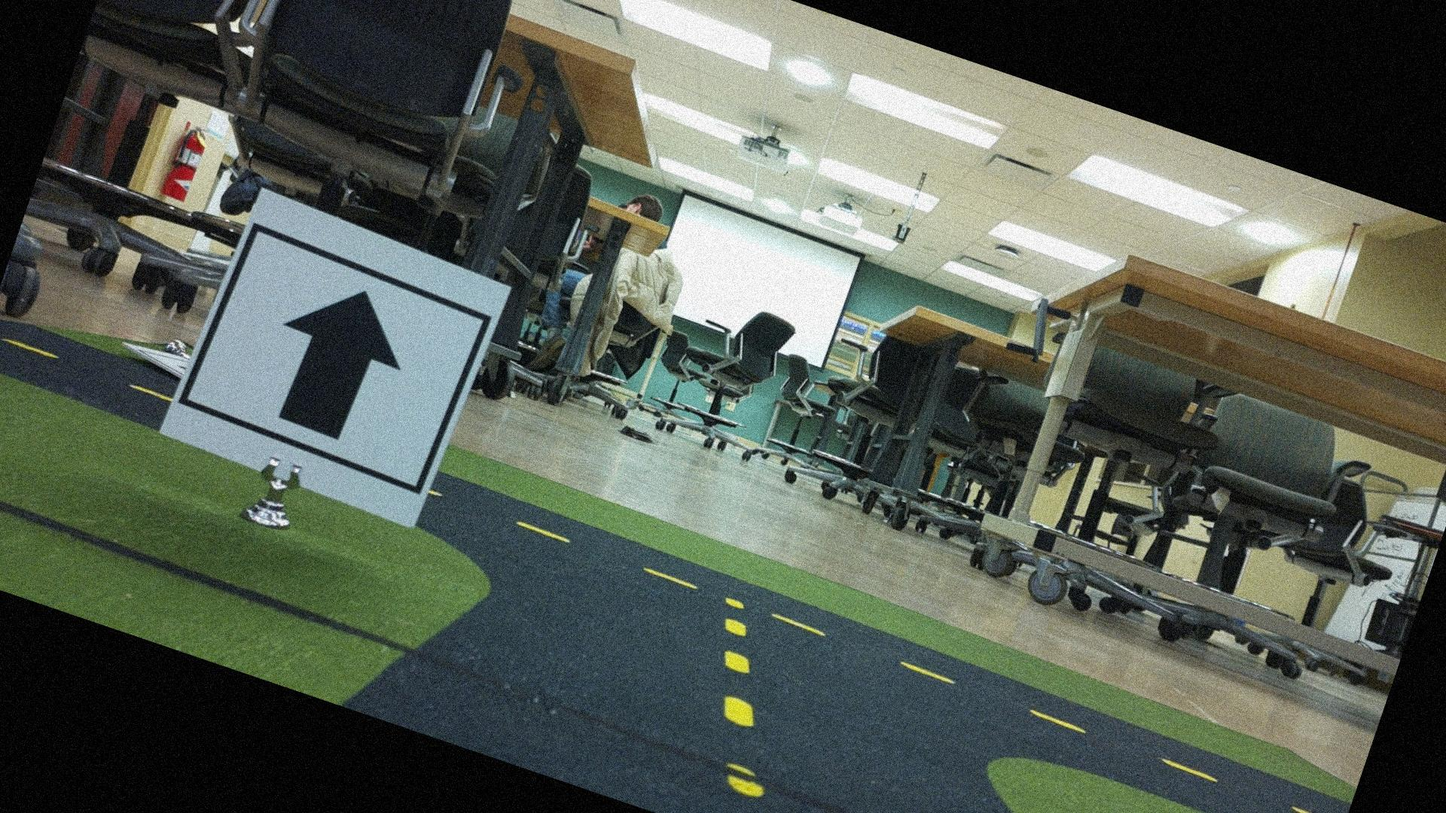gostraight: (183, 204, 497, 510)
yellowline: (898, 656, 1350, 812), (670, 596, 810, 798), (515, 518, 698, 593)
